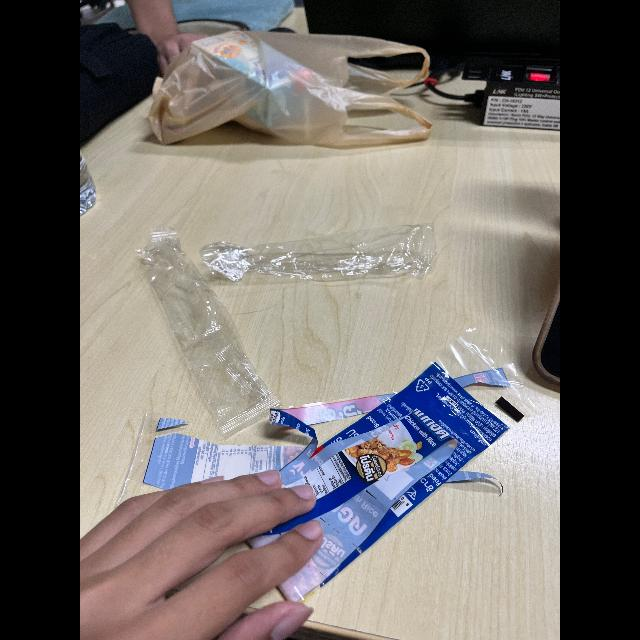scrap_plastic: (278, 323, 532, 597), (126, 226, 276, 434), (201, 220, 461, 298)
